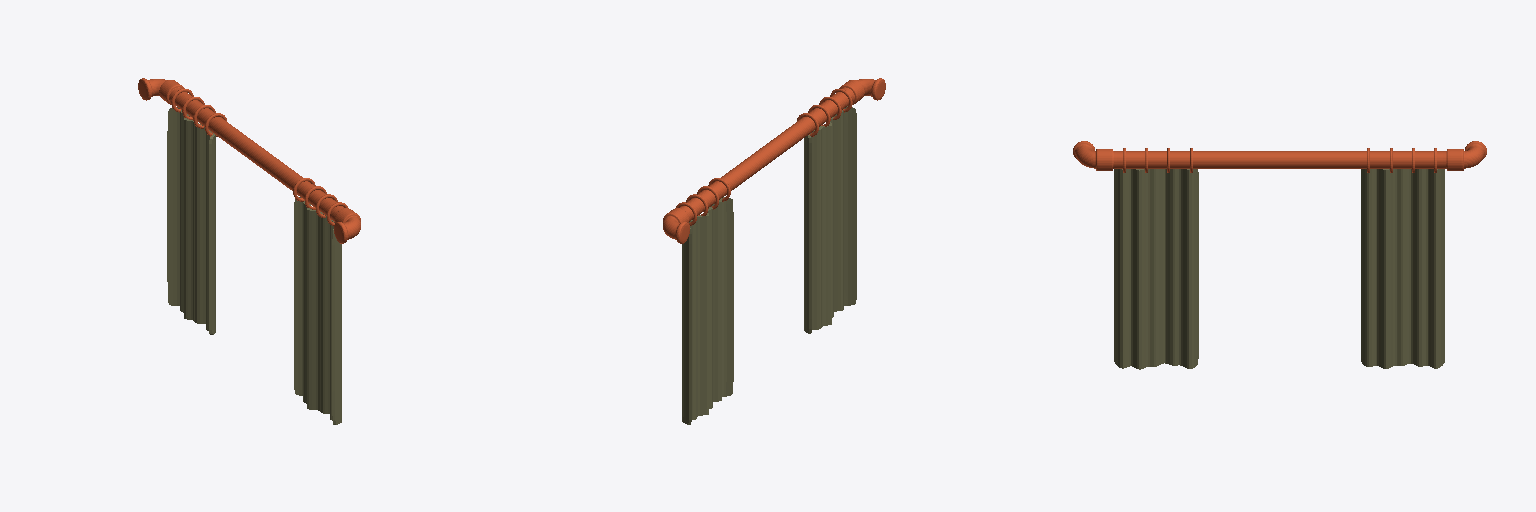
File: curtains.obj
3 renders of one model, left to right at view 1: azimuth 30°, elevation 25°; view 2: azimuth 150°, elevation 25°; view 3: azimuth 270°, elevation 25°, orthographic.
Parts seen in each view (by area): view 1: Plane.020, Plane.021, Cylinder.018, Cylinder.019; view 2: Plane.021, Plane.020, Cylinder.018, Cylinder.019; view 3: Plane.021, Plane.020, Cylinder.018, Cylinder.019.
Boxes of the visible parts, x1,y1,x2,y2 form: Plane.020: [167, 107, 215, 334]; Plane.021: [294, 197, 341, 424]; Cylinder.018: [138, 78, 360, 243]; Cylinder.019: [171, 89, 347, 225]; Plane.021: [804, 106, 856, 333]; Plane.020: [682, 197, 733, 424]; Cylinder.018: [663, 78, 885, 243]; Cylinder.019: [676, 89, 852, 225]; Plane.021: [1114, 169, 1198, 369]; Plane.020: [1361, 169, 1444, 368]; Cylinder.018: [1073, 141, 1486, 170]; Cylinder.019: [1123, 148, 1436, 172].
Bounding box in the file's own units: 0.3632 × 2.45 × 4.22.